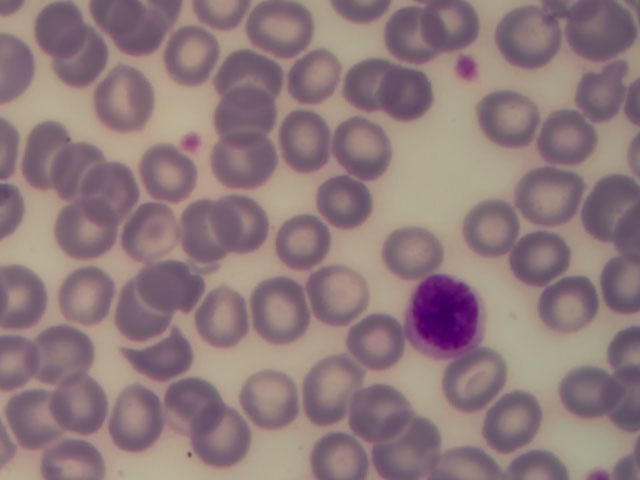Platelets: (455, 49, 480, 81), (183, 128, 203, 153)
RBC: (49, 31, 110, 89), (92, 70, 153, 128), (165, 25, 226, 83), (214, 46, 275, 104), (212, 80, 273, 138), (208, 133, 269, 191), (140, 147, 201, 205), (86, 160, 147, 218), (54, 144, 115, 202), (20, 126, 81, 184), (55, 200, 116, 258), (105, 203, 166, 261), (170, 205, 231, 263), (206, 196, 267, 254), (140, 247, 201, 305), (117, 284, 178, 342), (127, 325, 188, 383), (57, 269, 118, 327), (31, 325, 92, 383), (62, 370, 123, 428), (4, 389, 65, 447), (119, 387, 180, 445), (167, 377, 228, 435), (197, 411, 258, 469), (239, 370, 300, 428), (195, 288, 256, 346), (251, 283, 312, 341), (321, 262, 382, 320), (282, 216, 343, 274), (326, 173, 387, 231), (349, 120, 410, 178), (273, 106, 334, 164), (386, 65, 447, 123), (343, 55, 404, 113), (284, 48, 345, 106), (251, 8, 312, 66), (486, 90, 547, 148), (499, 4, 560, 62), (380, 1, 441, 59), (543, 101, 604, 159), (579, 62, 640, 120), (516, 159, 577, 217), (452, 194, 513, 252), (384, 222, 445, 280), (508, 228, 569, 286), (544, 279, 605, 337), (558, 359, 619, 417), (483, 396, 544, 454), (441, 354, 502, 412), (341, 387, 402, 445), (291, 354, 352, 412), (345, 311, 406, 369), (382, 422, 443, 480), (311, 419, 372, 477), (27, 1, 88, 58)
WBC: (406, 274, 489, 358)
